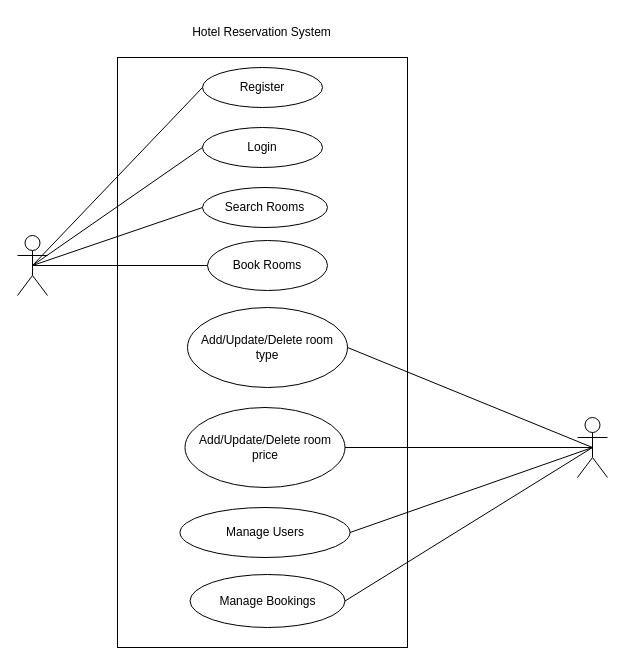
Some shapes in this 627 by 665 pixel diagram are drawn without their labels. The centre of each missing label's shape, as x and y in pixels:
"Admin" goes at (592,447).
"User" goes at (32,265).
